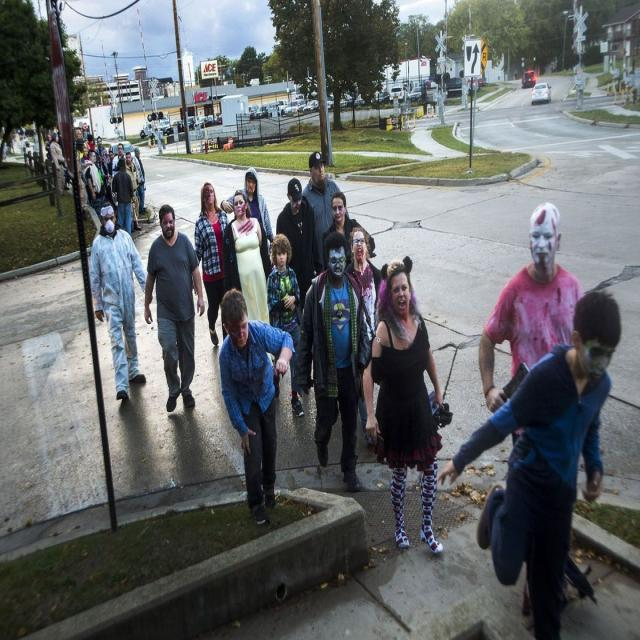body: (431, 286, 624, 639), (476, 198, 590, 620), (369, 253, 454, 557), (294, 229, 372, 496), (217, 284, 299, 530), (88, 198, 154, 404), (142, 202, 205, 415), (222, 187, 274, 367), (344, 225, 384, 451), (266, 232, 307, 421), (193, 181, 230, 346), (302, 150, 351, 272), (274, 176, 316, 315), (219, 165, 274, 256), (321, 189, 376, 273), (111, 157, 135, 236), (82, 148, 106, 219), (124, 151, 142, 234), (48, 132, 66, 198), (95, 134, 110, 201), (132, 146, 146, 216), (75, 137, 89, 197), (93, 150, 109, 193), (111, 142, 127, 180), (45, 123, 64, 155), (22, 134, 38, 168), (73, 128, 86, 158), (84, 133, 96, 162), (61, 154, 70, 192), (45, 133, 56, 161), (0, 125, 9, 158), (81, 144, 90, 169), (431, 90, 439, 118), (113, 150, 119, 158)
